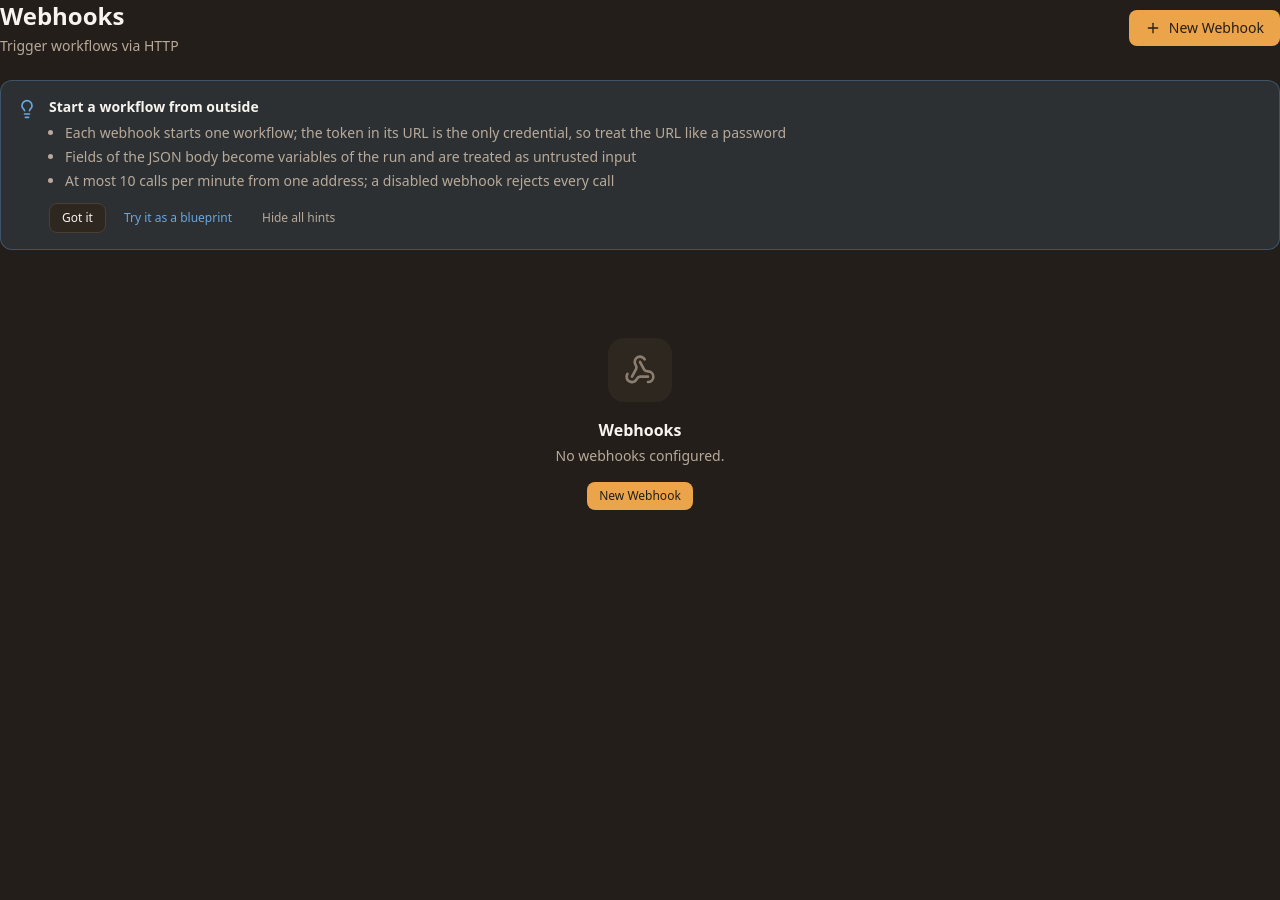
Test: Webhooks — creating and one-time token reveal › keeps the input when the dialog is cancelled
Step 1. Click the button "New Webhook" in the row of "Trigger workflows via HTTP" → click(1204, 28), box [1129,10,1279,46]
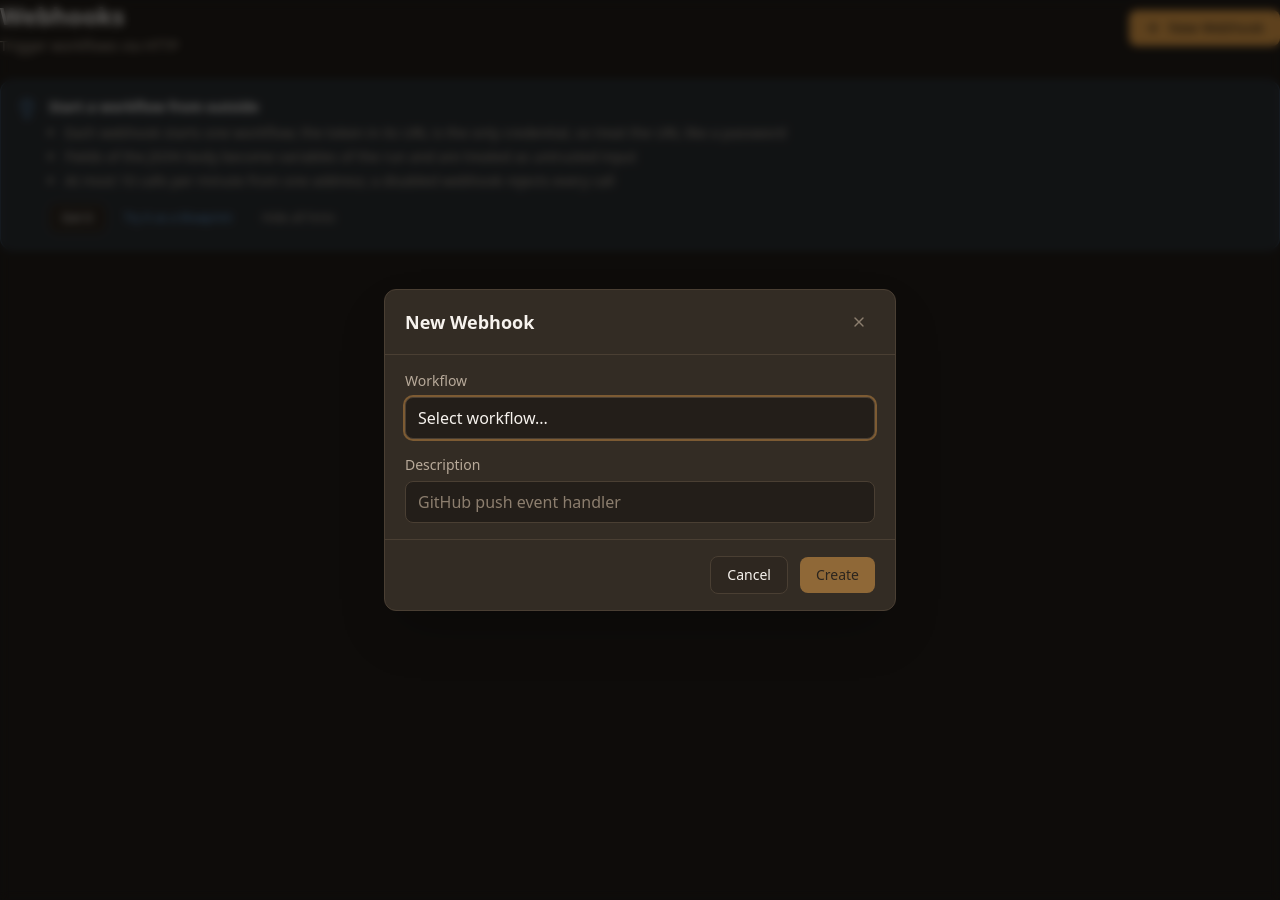
Step 2. Type "Draft" into the field labelled "Description" → (640, 502), box [405,481,875,523]
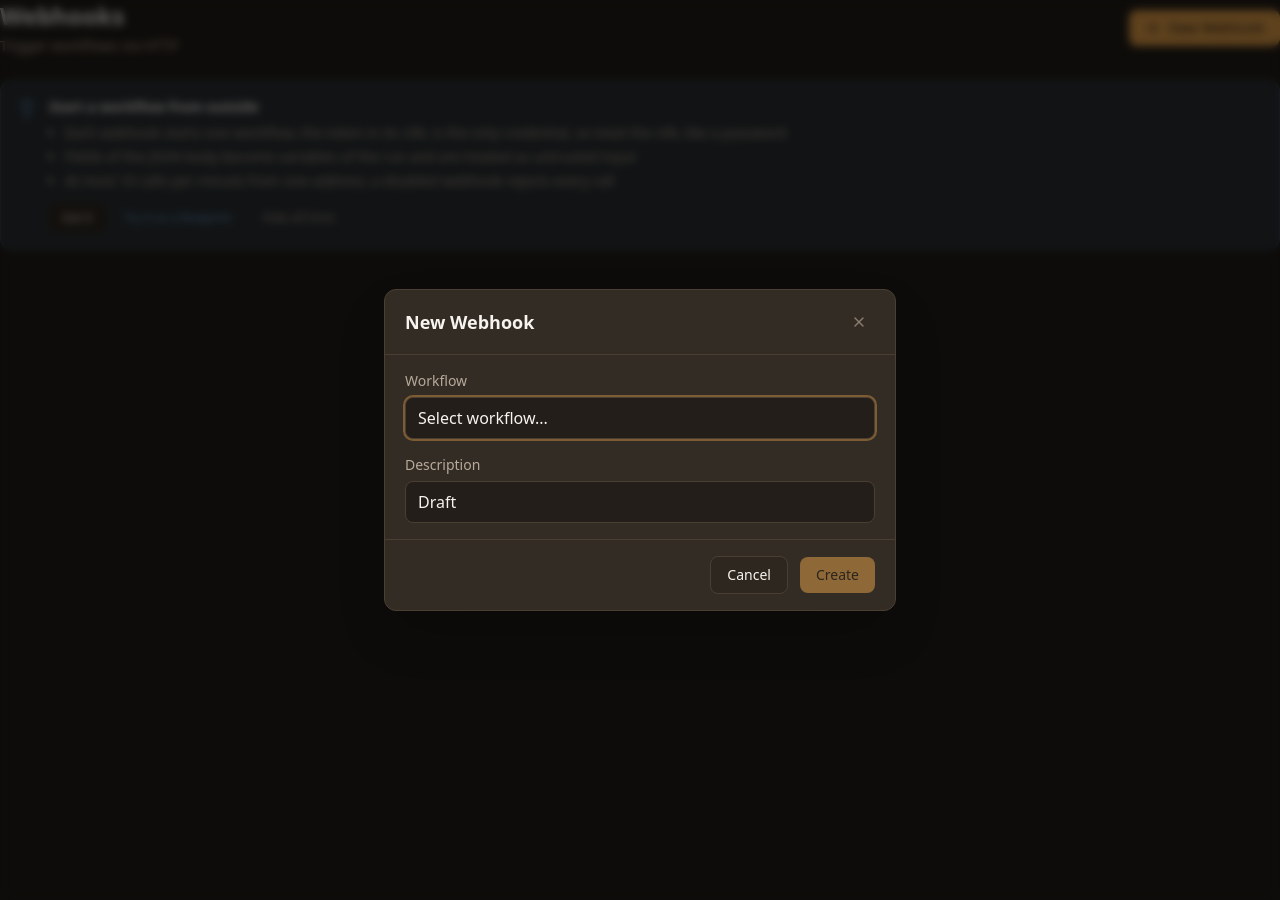
Step 3. Click the button "Cancel" → click(749, 575), box [710,556,788,594]
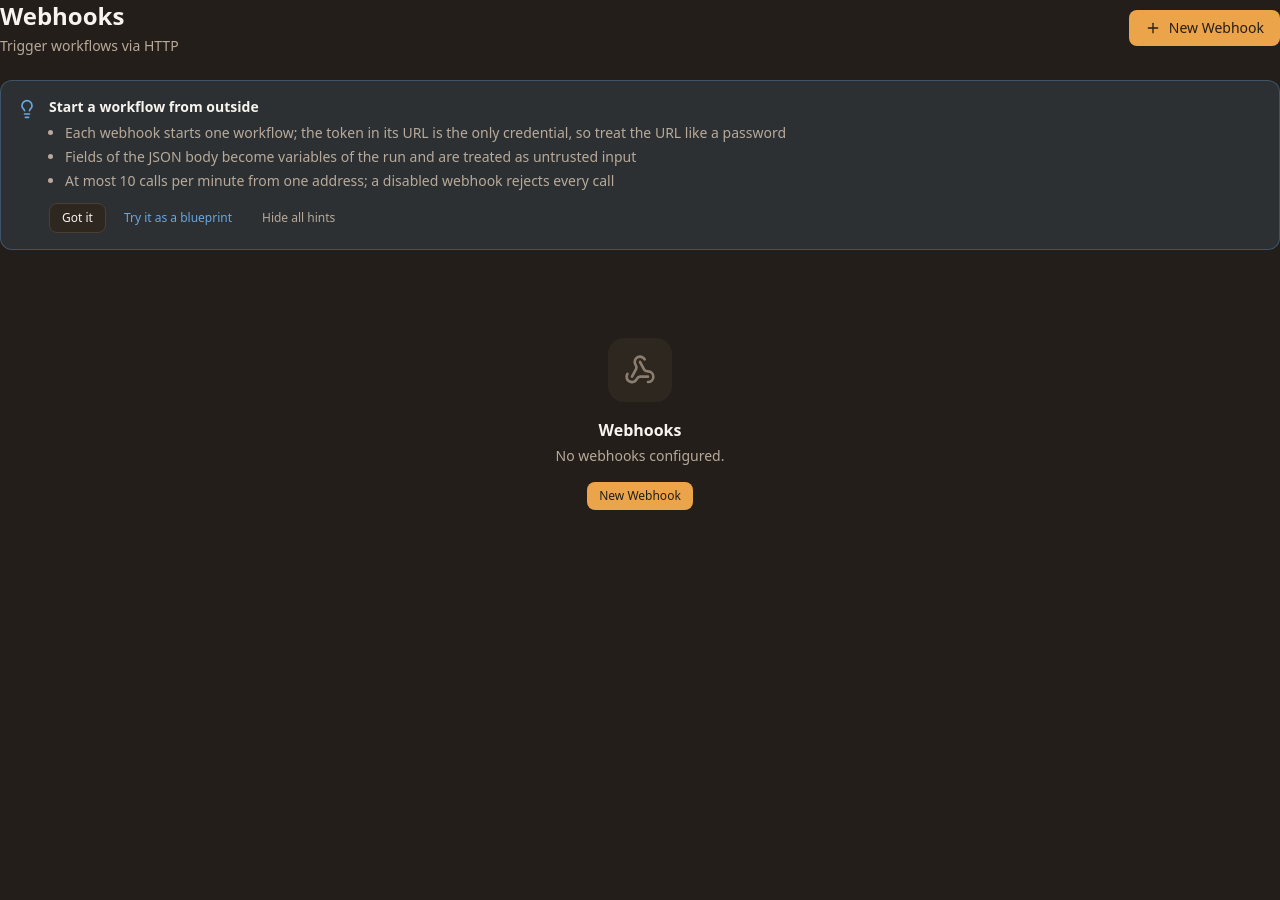
Now the dialog is gone
Step 4. Click the button "New Webhook" in the row of "Trigger workflows via HTTP" → click(1204, 28), box [1129,10,1279,46]
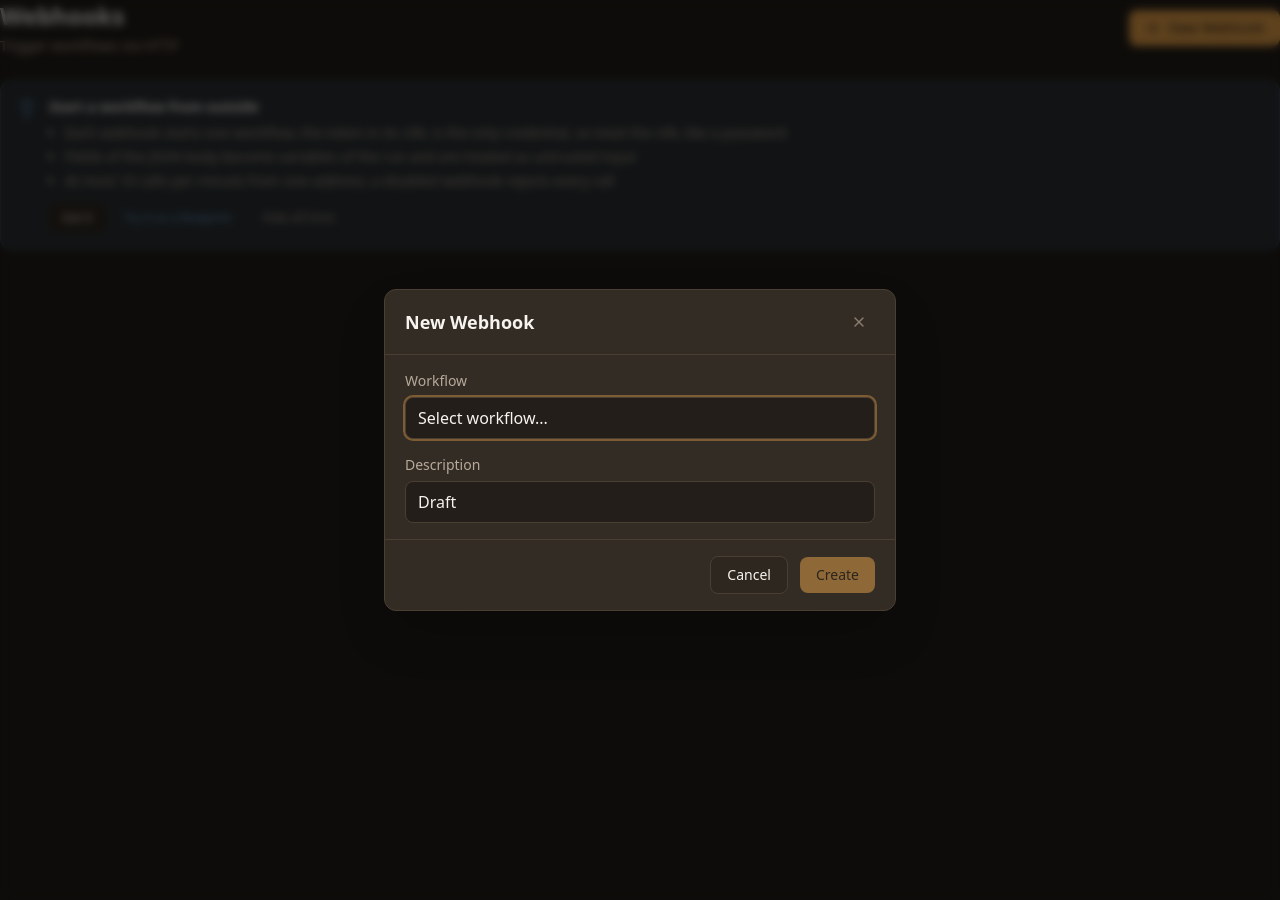
Now the field labelled "Description" holds "Draft", box [405,481,875,523]
